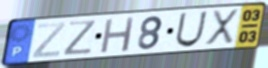8: (136, 14, 164, 51)
H: (99, 15, 137, 55)
U: (173, 10, 209, 49)
X: (203, 7, 241, 46)
Z: (61, 19, 99, 57), (31, 20, 68, 59)
